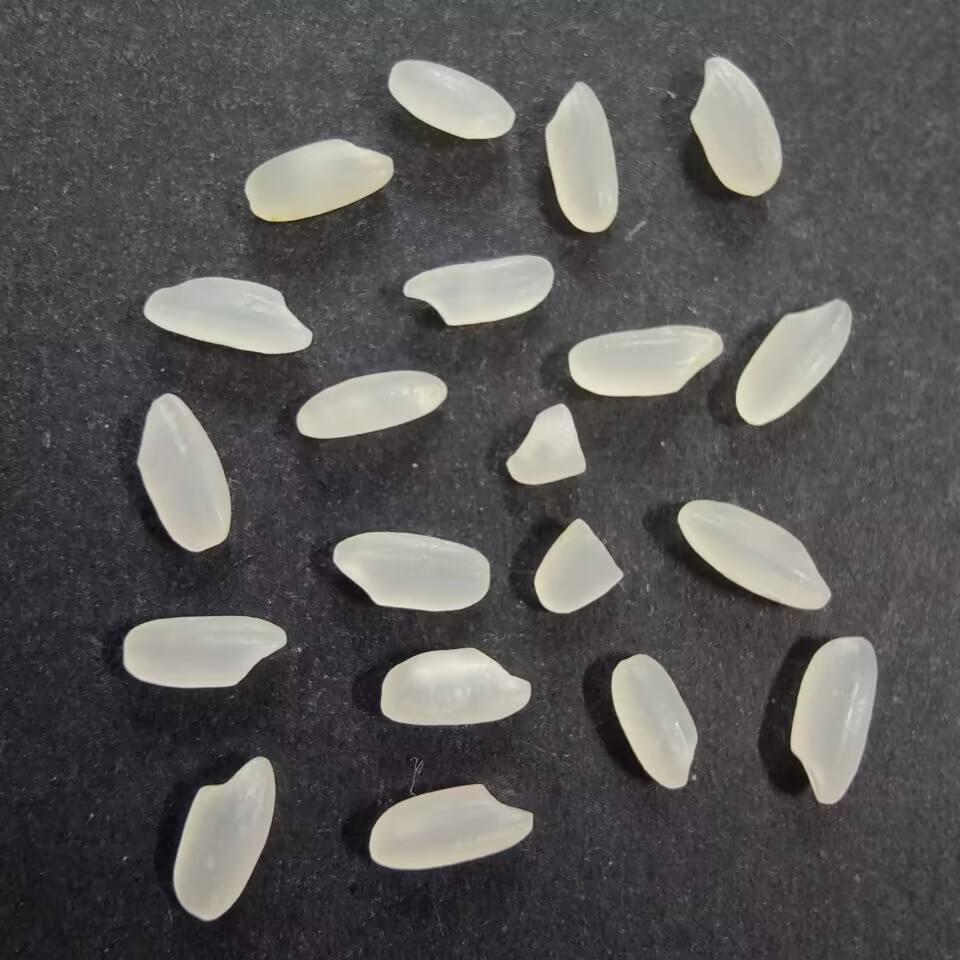broken: (533, 516, 631, 618), (503, 401, 589, 487)
rice: (167, 751, 280, 925), (671, 500, 836, 612), (134, 392, 235, 557), (364, 778, 539, 873), (735, 294, 855, 426), (790, 634, 879, 808), (331, 527, 492, 617), (142, 275, 315, 356), (689, 53, 785, 198), (241, 137, 400, 224), (115, 613, 289, 692), (379, 644, 536, 729), (540, 76, 623, 234), (610, 653, 699, 793), (565, 321, 726, 398), (401, 252, 557, 330), (292, 367, 450, 444), (385, 56, 519, 144)
